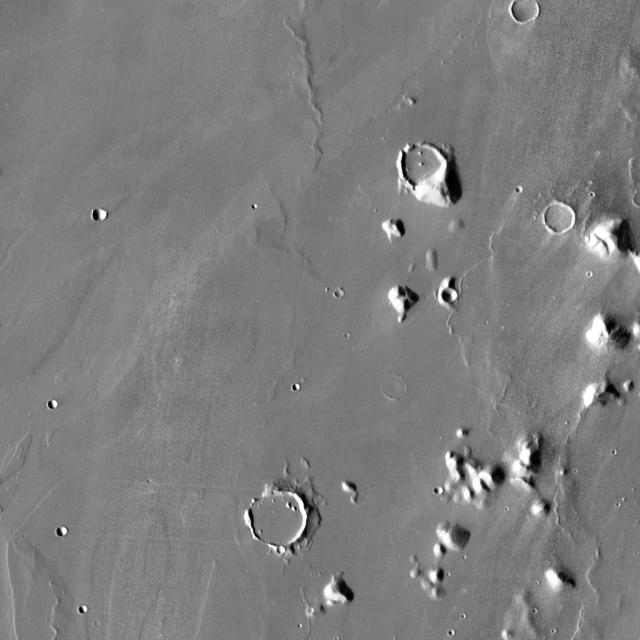crater: (250, 492, 308, 546), (402, 146, 448, 190), (547, 204, 579, 234), (513, 0, 540, 22), (382, 376, 407, 399), (288, 460, 308, 479), (443, 288, 461, 304), (94, 209, 106, 221), (58, 528, 68, 537), (49, 400, 59, 409), (292, 383, 301, 391), (335, 290, 343, 298), (278, 546, 286, 554), (447, 628, 455, 636), (80, 606, 88, 613), (434, 488, 442, 494), (516, 187, 522, 194)
